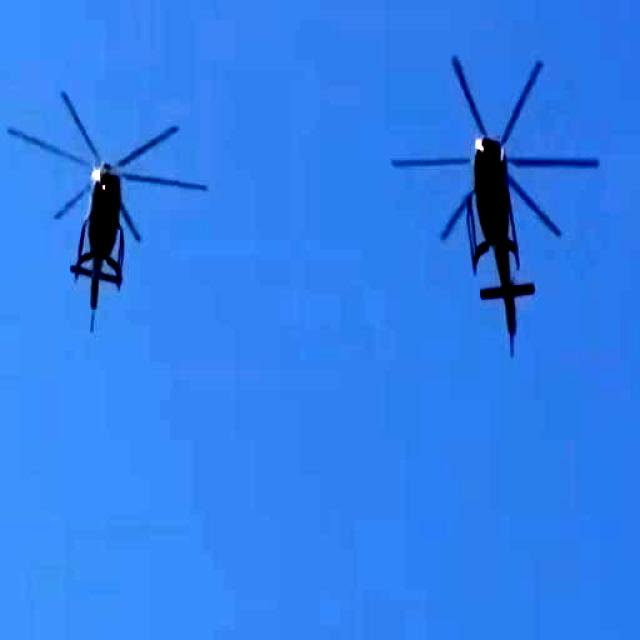drone: (400, 49, 560, 344), (39, 96, 148, 320)
